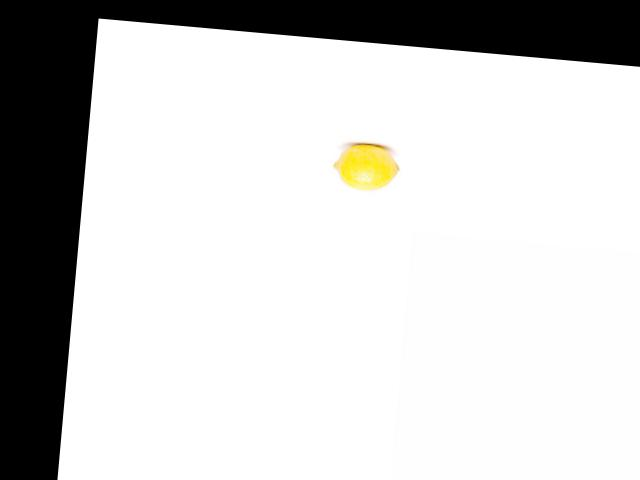lemon: (326, 134, 401, 195)
